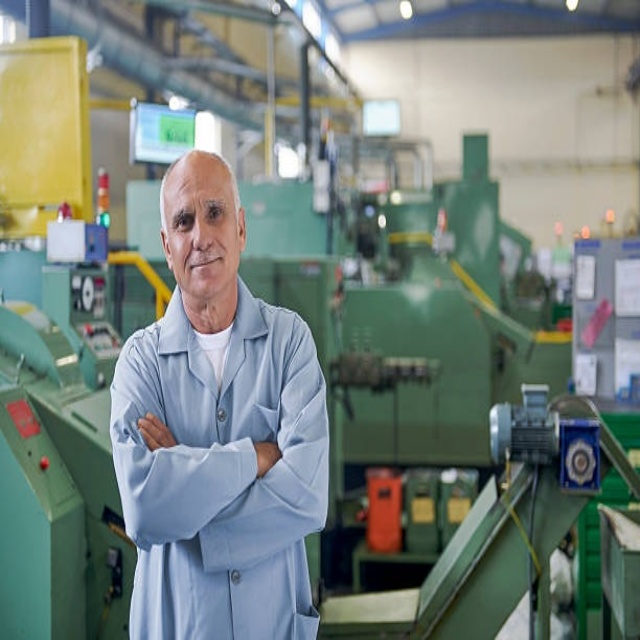Sin_gafas: (169, 190, 228, 240)
Sin_guantes: (137, 412, 176, 451)
Sin_mascara: (186, 251, 225, 290)
